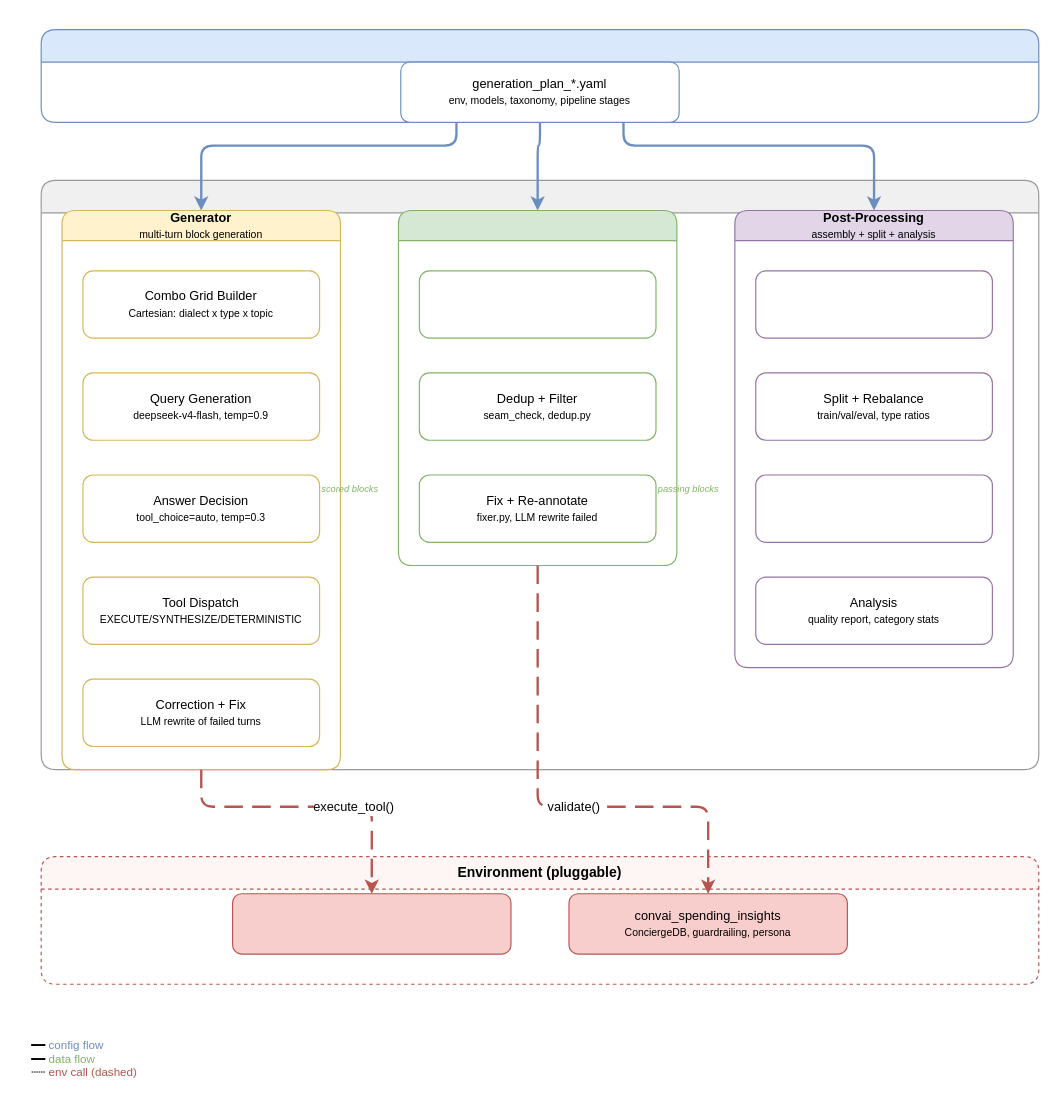
The diagram is 1059 pixels wide and 1119 high, and some of its shapes have lost their labels. Each missing label, with the box of its shape:
Assemble Blocks stitch blocks into convos: (755, 270, 992, 338)
Config: (40, 28, 1039, 122)
Distillation format for training pipeline: (755, 474, 992, 542)
Environment ABC (base.py) ToolSpec + ToolBehavior protocol: (231, 893, 511, 954)
LLM Scorer rubric judge, mean≥8 gate: (418, 270, 656, 338)
Pipeline (domain-agnostic): (40, 179, 1039, 770)
Validator LLM scoring + dedup: (397, 209, 677, 566)
